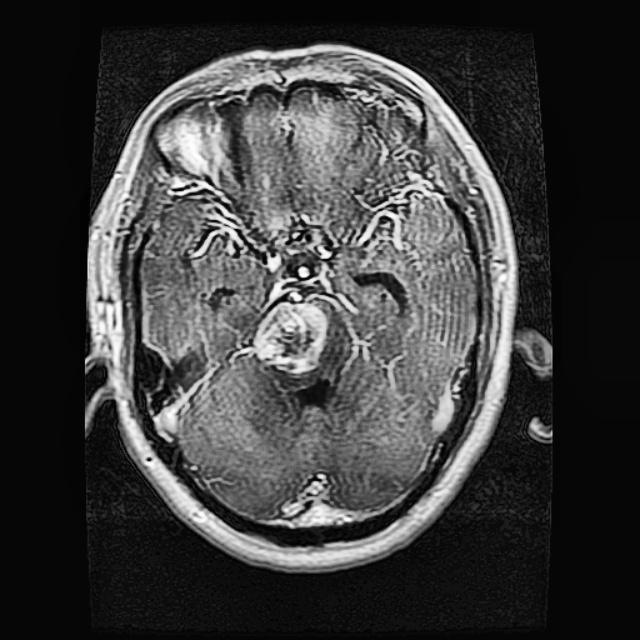Pituitary: (253, 300, 327, 375)
